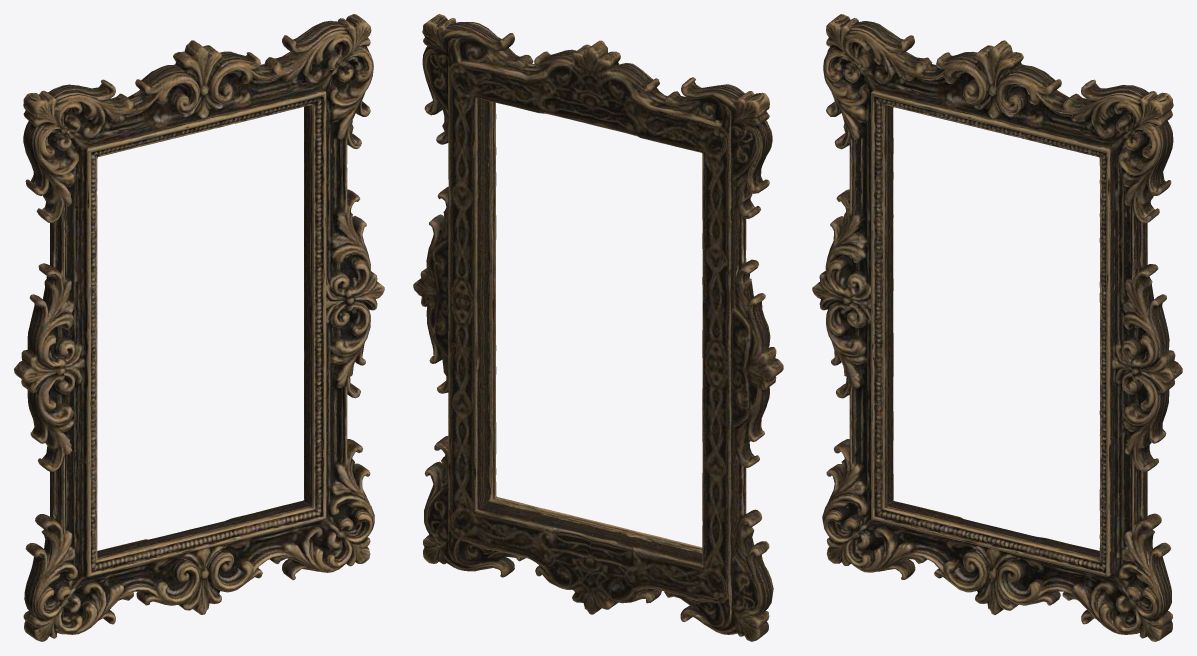
The picture shows the model from 3 angles, left to right: view 1: azimuth 30°, elevation 25°; view 2: azimuth 150°, elevation 25°; view 3: azimuth 330°, elevation 25°; orthographic projection.
Size of the model in its own units: 1.27 by 1.9 by 0.1098.
Materials: 1 (1 with a texture image).
